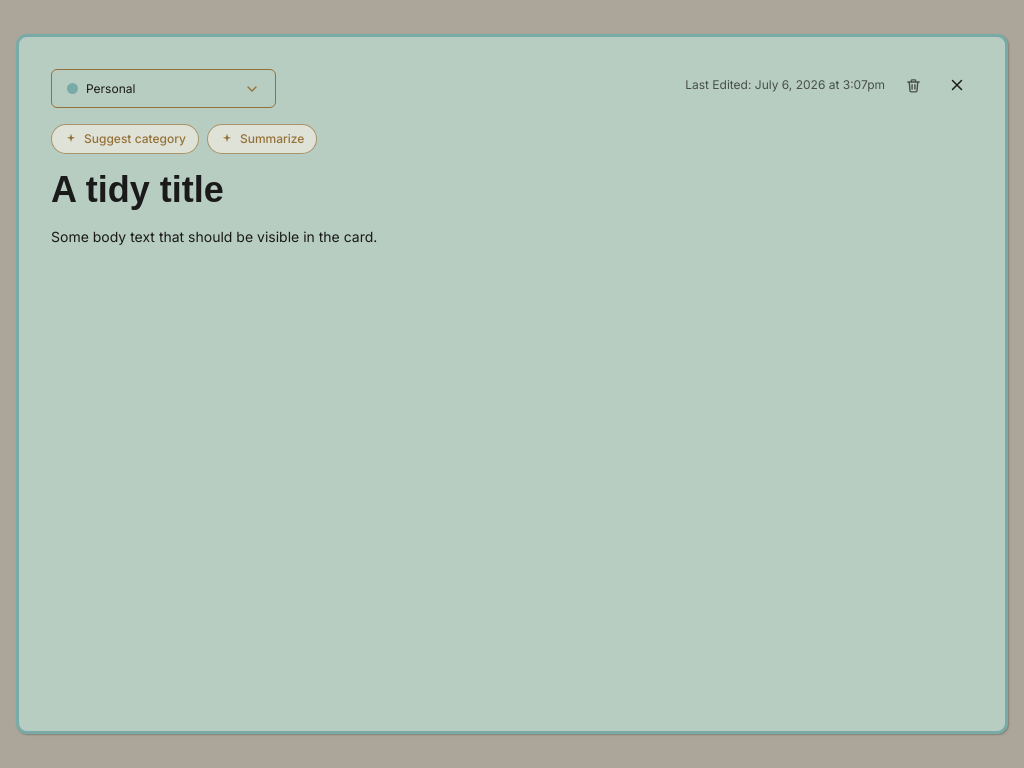
it: NoteEditor › surfaces an error notice and applies nothing when the AI request fails
This screenshot has width=1024, height=768.
Click the button "Suggest category" at (125, 139), box [51,124,199,154]
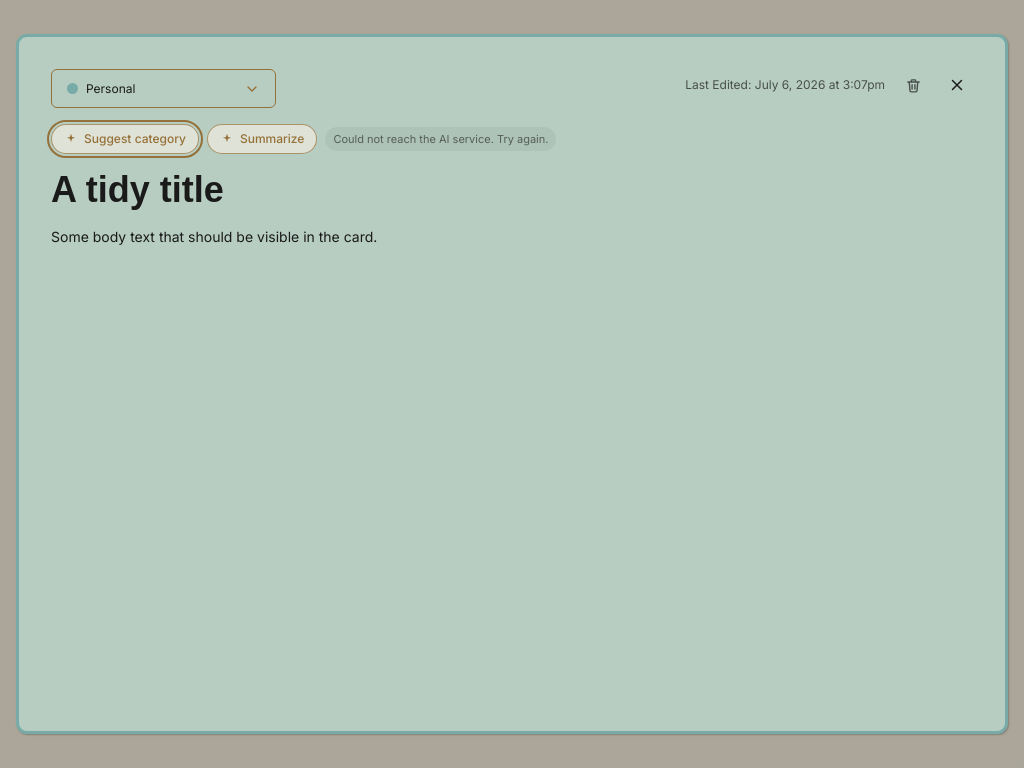
Expected: the text "Could not reach the AI service. Try again." is shown, [325,127,556,151]
